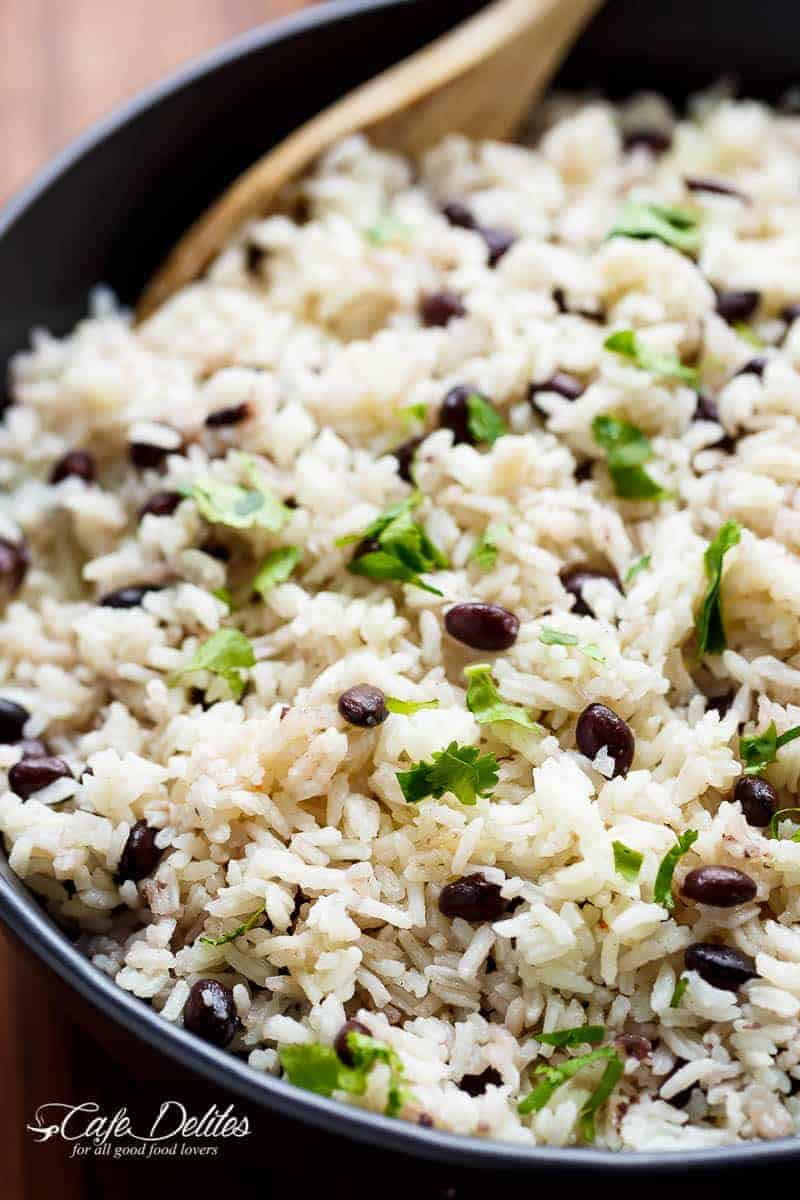rice: (114, 200, 800, 1131)
